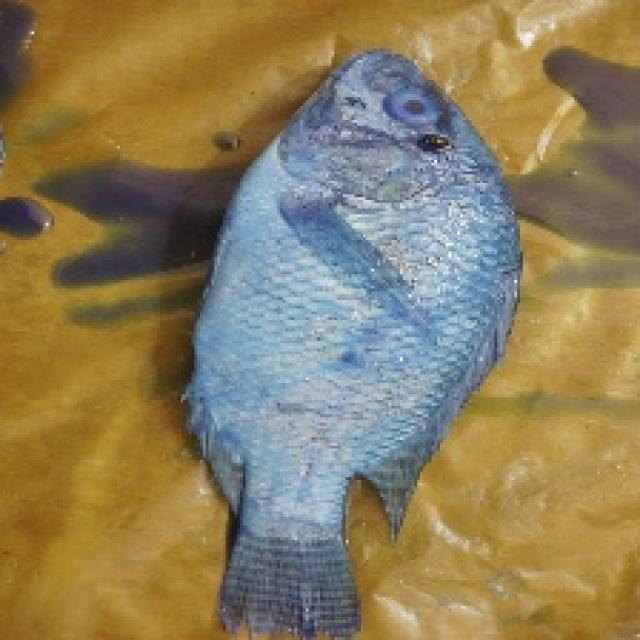Non-Fresh: (177, 33, 531, 550)
